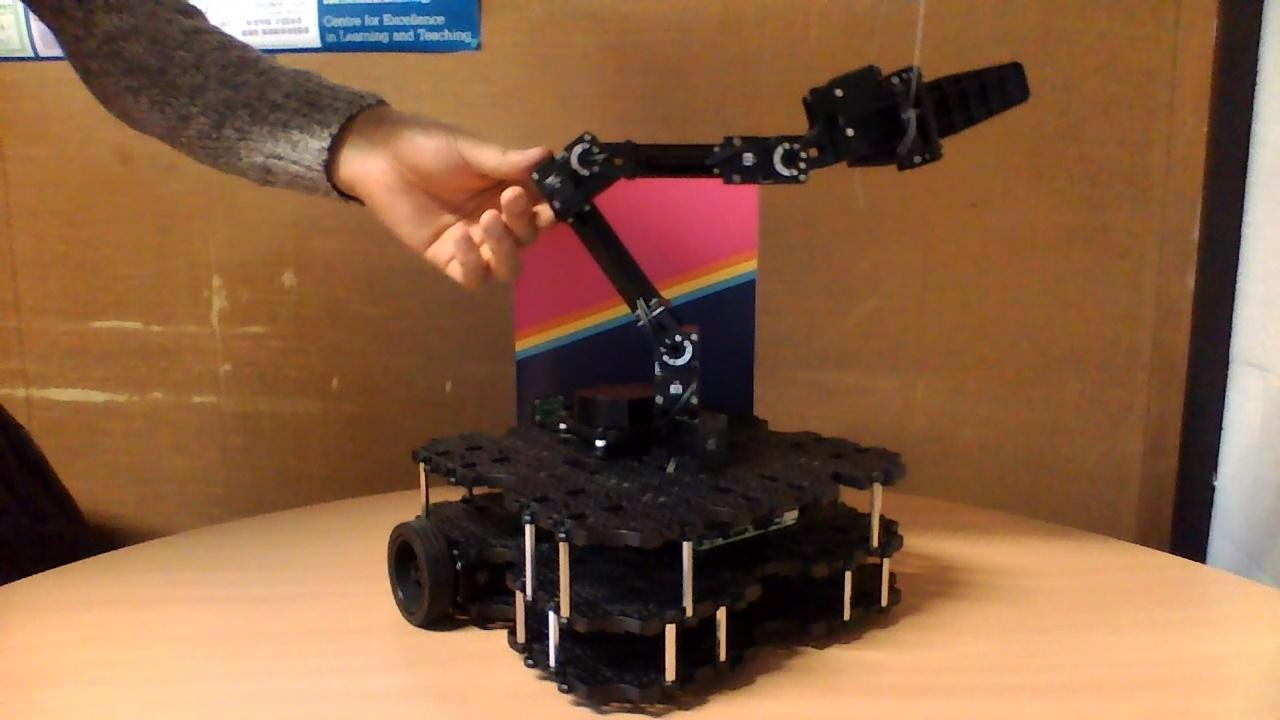Arm: (533, 164, 705, 376)
Hand: (775, 57, 1033, 184)
Wrist: (565, 128, 816, 188)
base: (384, 383, 909, 706)
